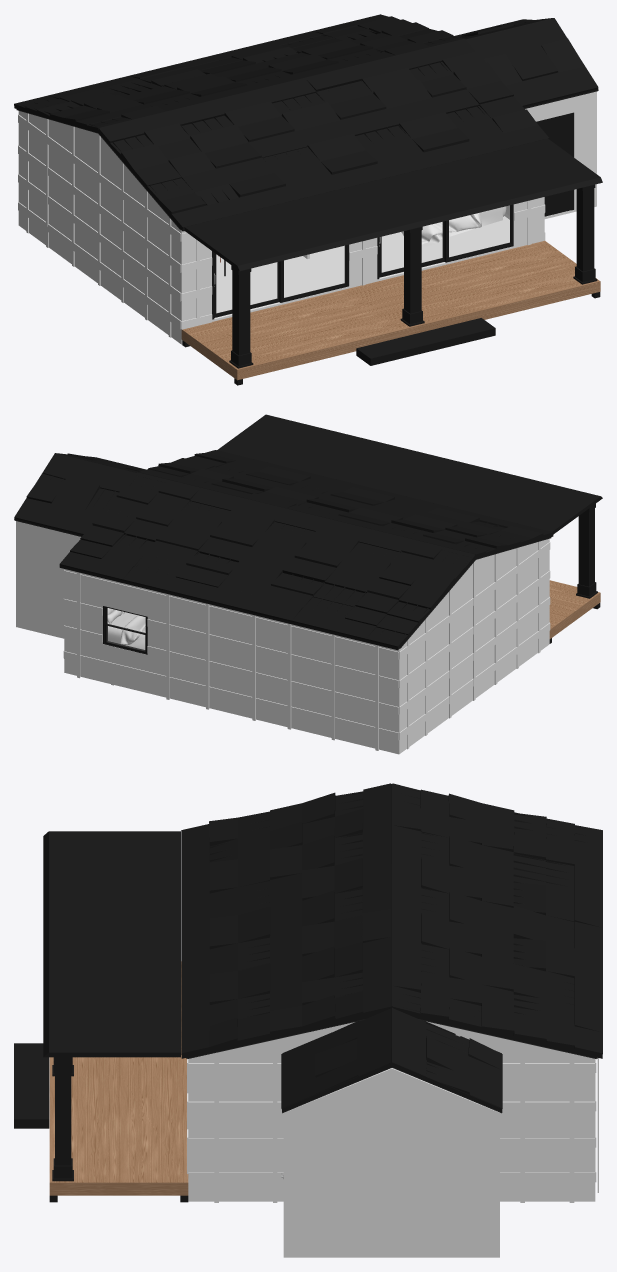
The model's file is 800Sqftall.glb.
3 views of the same model, one above another, from view 1: azimuth 30°, elevation 25°; view 2: azimuth 150°, elevation 25°; view 3: azimuth 270°, elevation 25° (orthographic). The views are drawn at different scales.
Parts seen in each view (by area): view 1: Asphalt_Roof, Wooden_Base, Frontal_Roof, Outer_Wall, Asphalt_Side_Roof, Horizontal_Wall_Pattern, House_Base, Pillars, Vertical_Wall_Pattern, Wooden_Step, Side_Room_Wall, Glass01 (+10 smaller); view 2: Asphalt_Roof, Outer_Wall, Frontal_Roof, Horizontal_Wall_Pattern, Asphalt_Side_Roof, Vertical_Wall_Pattern, Side_Room_Wall, Wooden_Base, Pillars, Metal_Roof_Sheet, polySurface7074, polySurface7073 (+1 smaller); view 3: Asphalt_Roof, Side_Room_Wall, Frontal_Roof, Outer_Wall, Wooden_Base, Asphalt_Side_Roof, Horizontal_Wall_Pattern, Vertical_Wall_Pattern, Metal_Roof_Sheet, Wooden_Step, Pillars, Metal_Roof_Base (+1 smaller).
Part boxes in pixels (x1,y1,x2,y2): Asphalt_Roof: (14, 14, 549, 231); Wooden_Base: (181, 240, 600, 380); Frontal_Roof: (184, 138, 602, 270); Outer_Wall: (18, 111, 544, 344); Asphalt_Side_Roof: (454, 18, 598, 108); Horizontal_Wall_Pattern: (18, 114, 545, 329); House_Base: (216, 216, 509, 313); Pillars: (229, 184, 597, 368); Vertical_Wall_Pattern: (26, 113, 531, 337); Wooden_Step: (356, 318, 495, 365); Side_Room_Wall: (525, 91, 596, 218); Glass01: (284, 246, 344, 297); Asphalt_Roof: (59, 450, 553, 650); Outer_Wall: (64, 538, 549, 754); Frontal_Roof: (217, 414, 602, 534); Horizontal_Wall_Pattern: (63, 542, 550, 740); Asphalt_Side_Roof: (14, 453, 145, 536); Vertical_Wall_Pattern: (77, 541, 540, 750); Side_Room_Wall: (16, 521, 80, 638); Wooden_Base: (549, 580, 600, 638); Pillars: (576, 503, 597, 598); Metal_Roof_Sheet: (107, 465, 526, 641); polySurface7074: (107, 608, 145, 650); polySurface7073: (103, 606, 147, 654); Asphalt_Roof: (181, 783, 602, 1058); Side_Room_Wall: (283, 1068, 499, 1257); Frontal_Roof: (43, 831, 180, 1057); Outer_Wall: (188, 1021, 595, 1201); Wooden_Base: (49, 961, 188, 1195); Asphalt_Side_Roof: (281, 1008, 502, 1113); Horizontal_Wall_Pattern: (187, 1059, 596, 1182); Vertical_Wall_Pattern: (187, 1026, 598, 1202); Metal_Roof_Sheet: (209, 784, 590, 1025); Wooden_Step: (14, 1043, 49, 1128); Pillars: (52, 1057, 73, 1181); Metal_Roof_Base: (186, 1011, 597, 1058).
Size of the model in its own units: 0.1234 by 0.0407 by 0.1104.
Materials: 9 (1 with a texture image).
